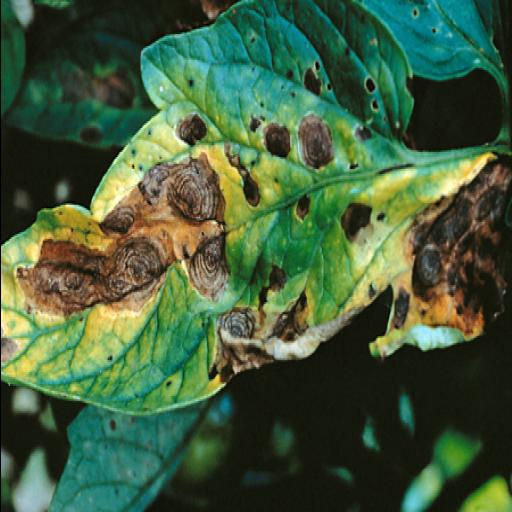disease_tomato: (0, 0, 512, 406)
